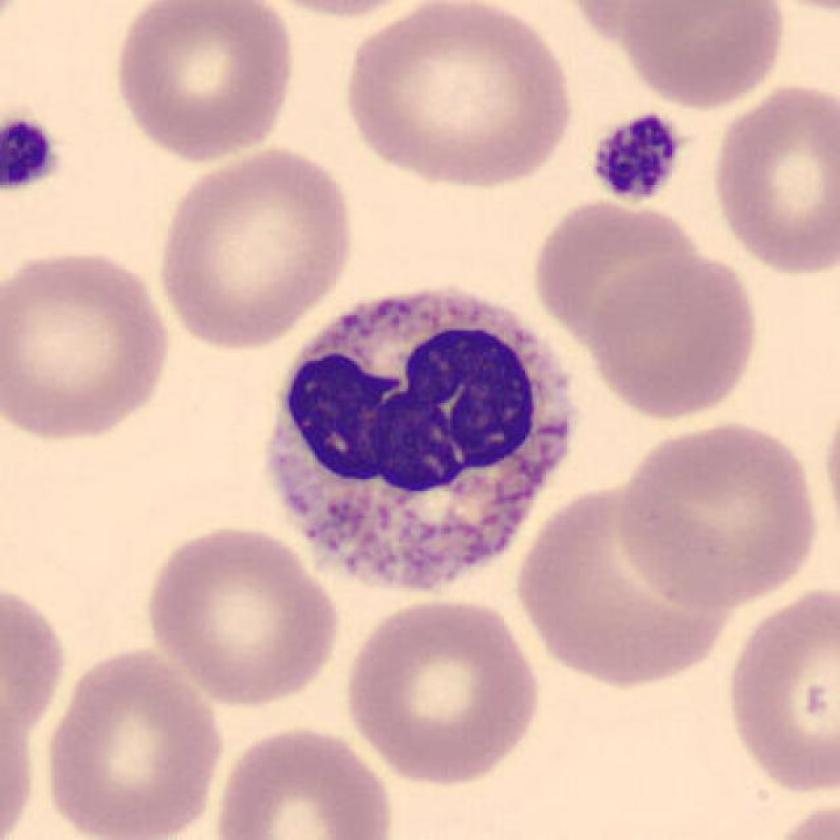neutrophil: (265, 291, 576, 594)
